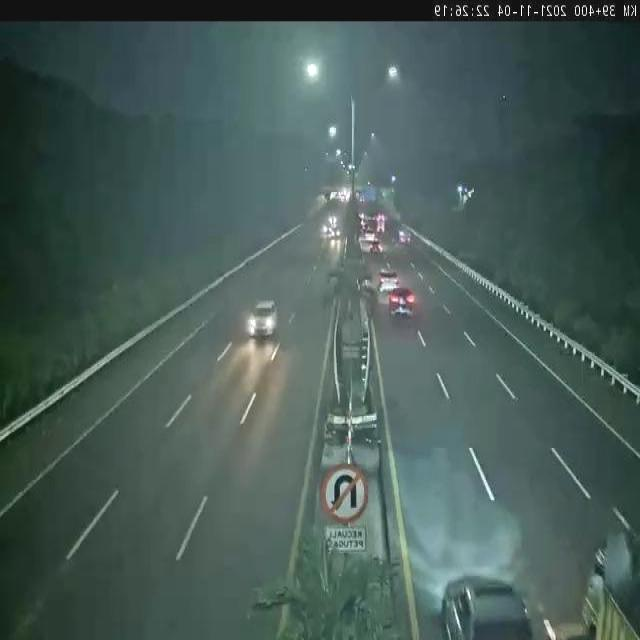Car: (439, 566, 538, 640), (243, 286, 288, 358), (388, 282, 415, 326), (376, 269, 398, 295)
Truck: (567, 526, 639, 640)
